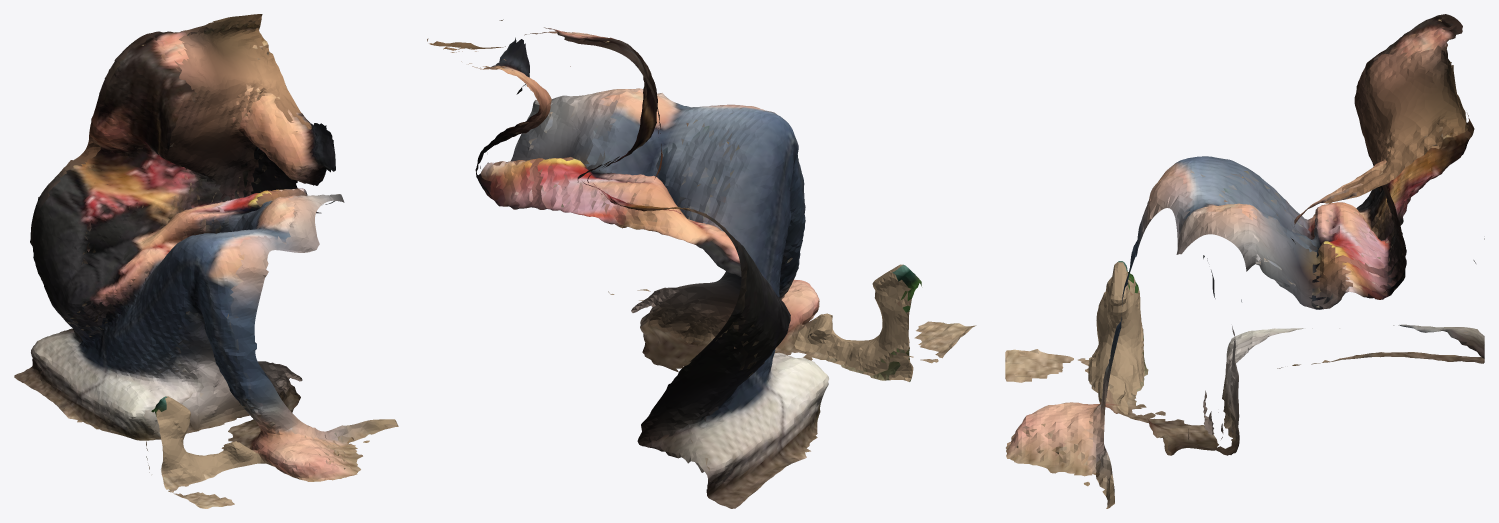
The picture shows the model from 3 angles, left to right: view 1: azimuth 30°, elevation 25°; view 2: azimuth 150°, elevation 25°; view 3: azimuth 270°, elevation 25°; orthographic projection. The views are drawn at different scales.
Bounding box in the file's own units: 0.5458 × 0.6949 × 0.7343.
1 material, 1 textured.
